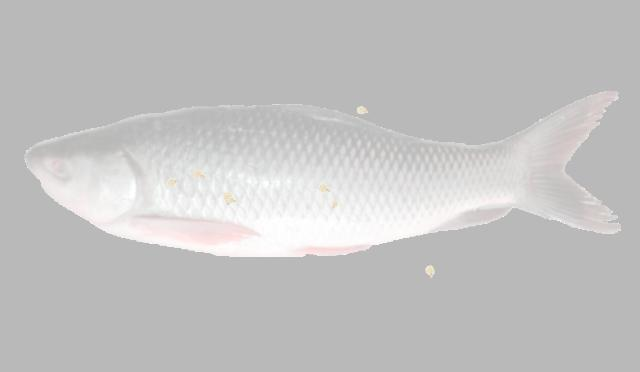Parasitic Disease: (25, 91, 620, 257), (25, 92, 620, 257)
